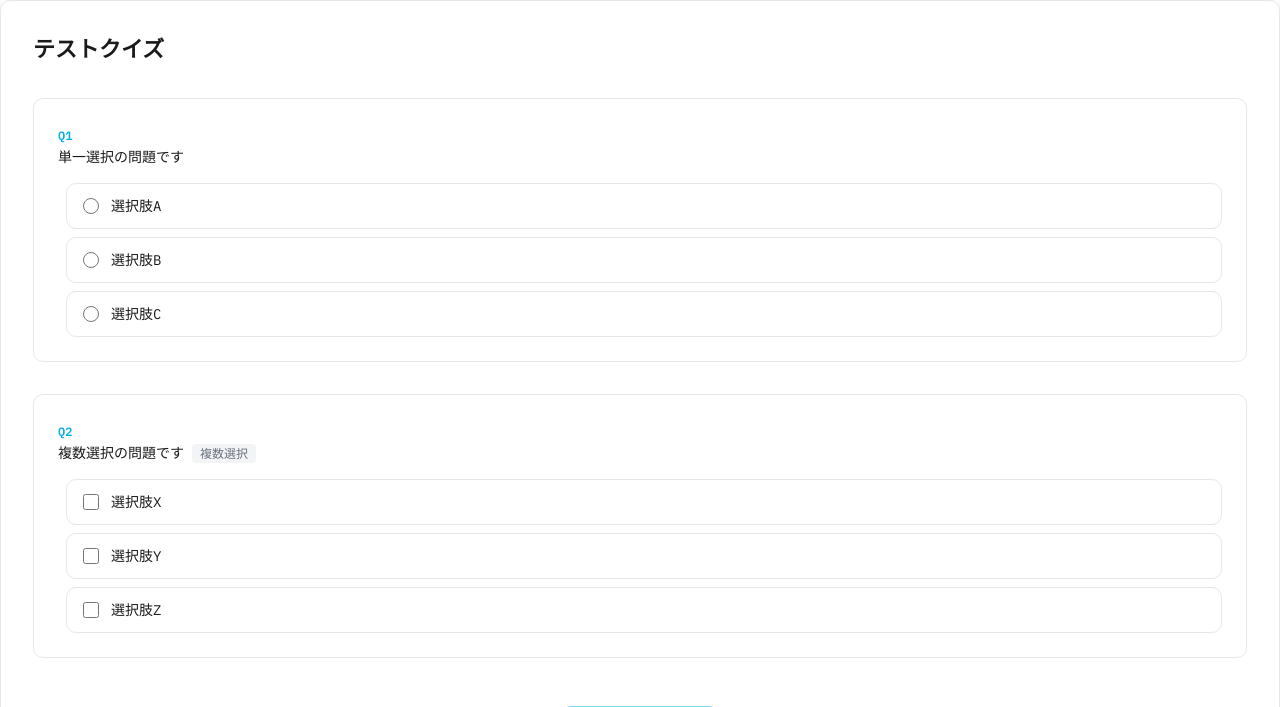
Test case: QuizClient › 結果フェーズ (graded) › 「もう一度挑戦する」クリックで出題画面に戻る
Click the radio button labelled "選択肢B" at (91, 260), box [83,252,99,268]
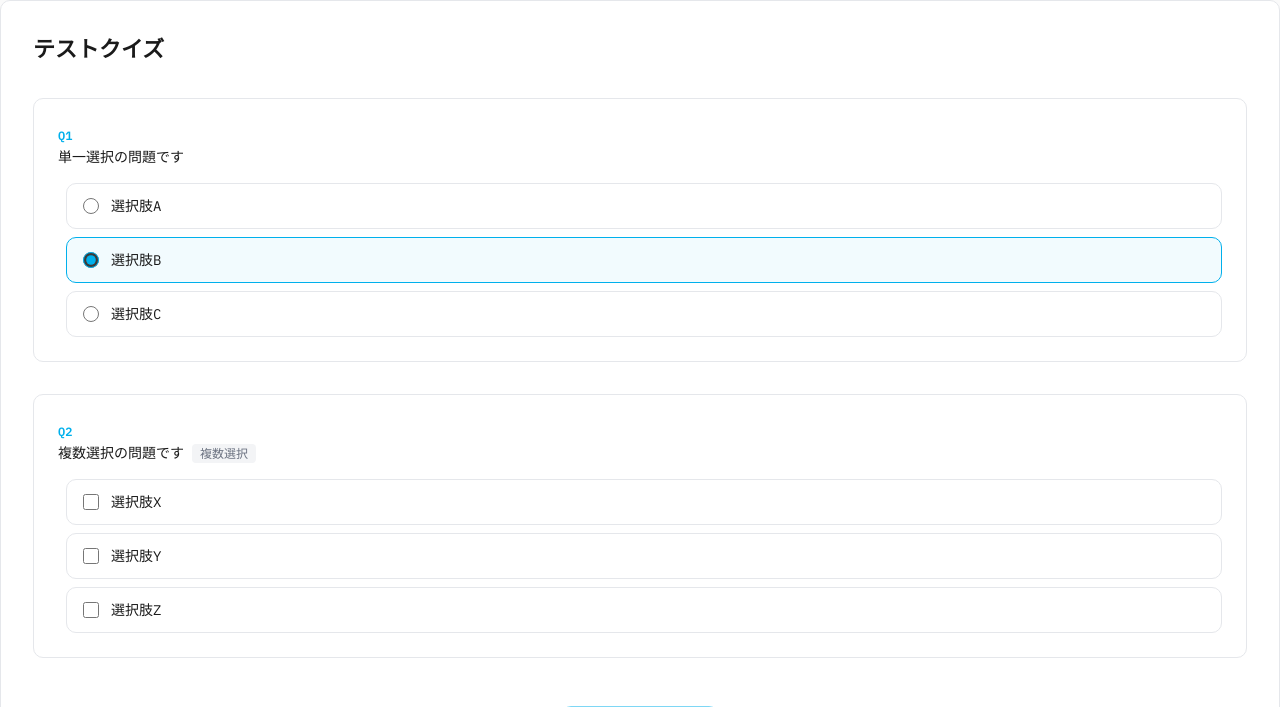
Click the checkbox labelled "選択肢X" at (91, 502), box [83,494,99,510]
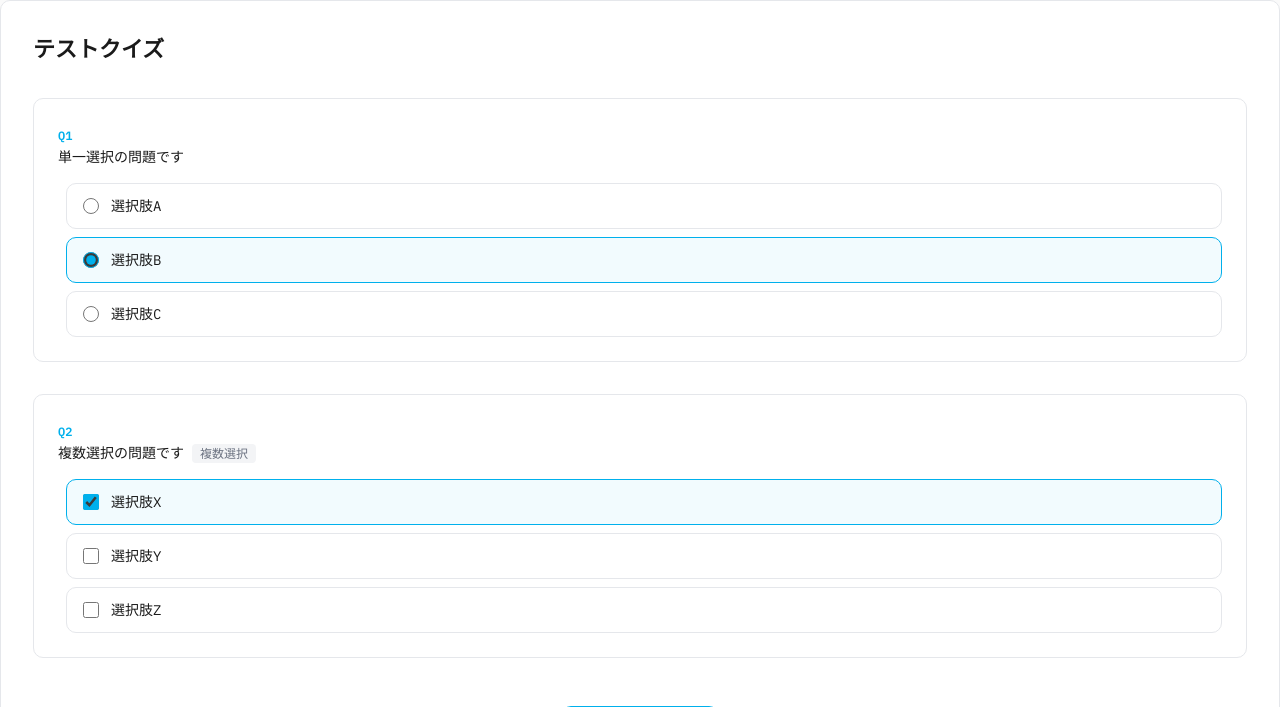
Click the checkbox labelled "選択肢Z" at (91, 610), box [83,602,99,618]
(page scrolled)
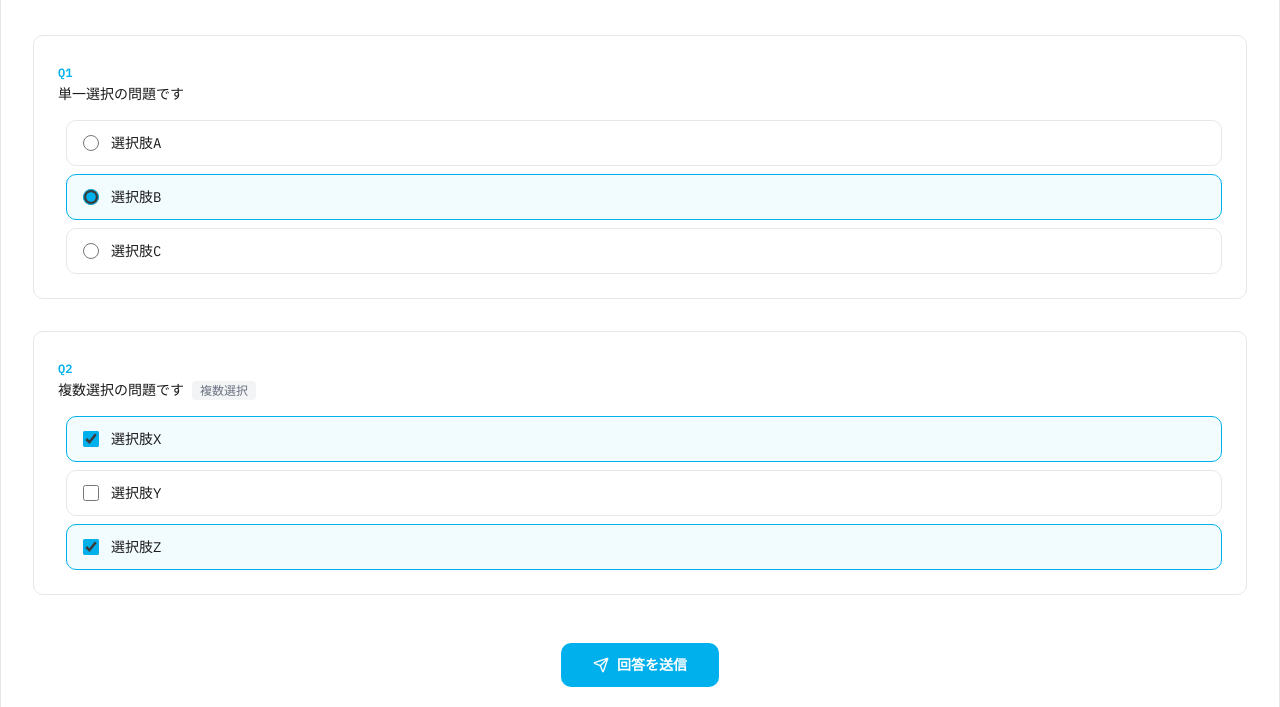
Click the button "回答を送信" at (640, 665), box [561,643,719,687]
(page scrolled)
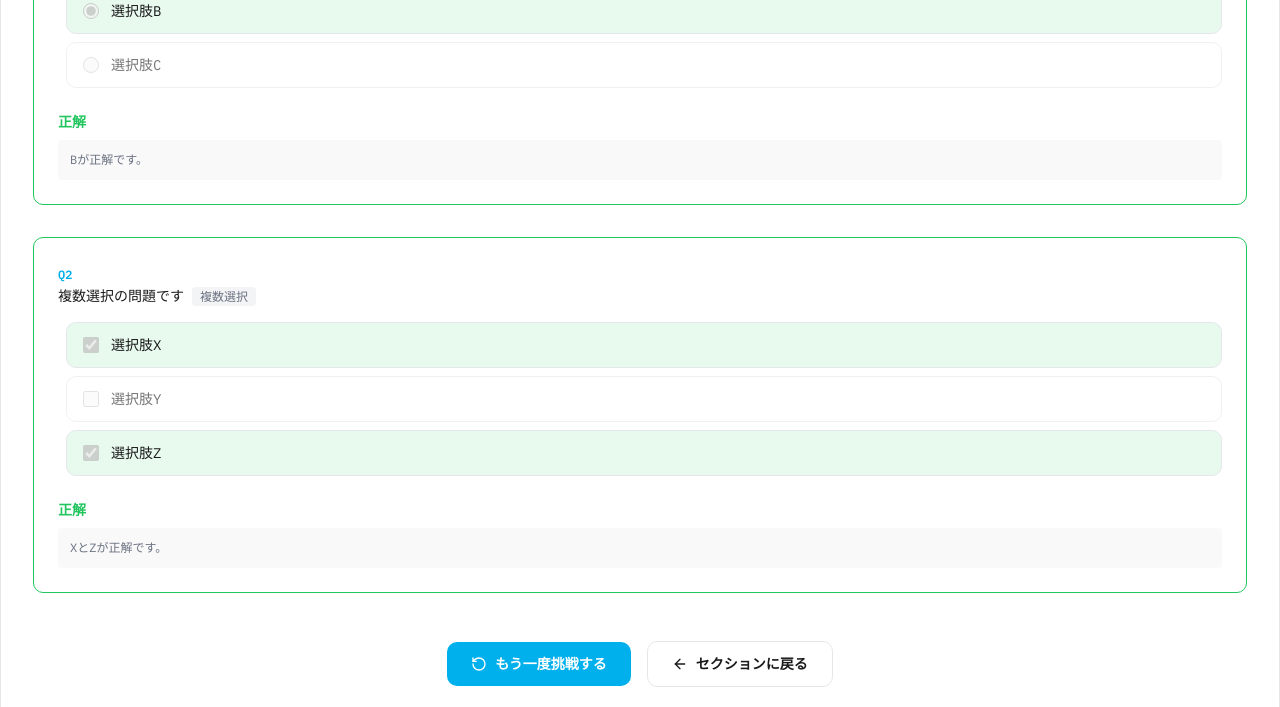
Click the button "もう一度挑戦する" at (539, 664), box [447,642,631,686]
(page scrolled)
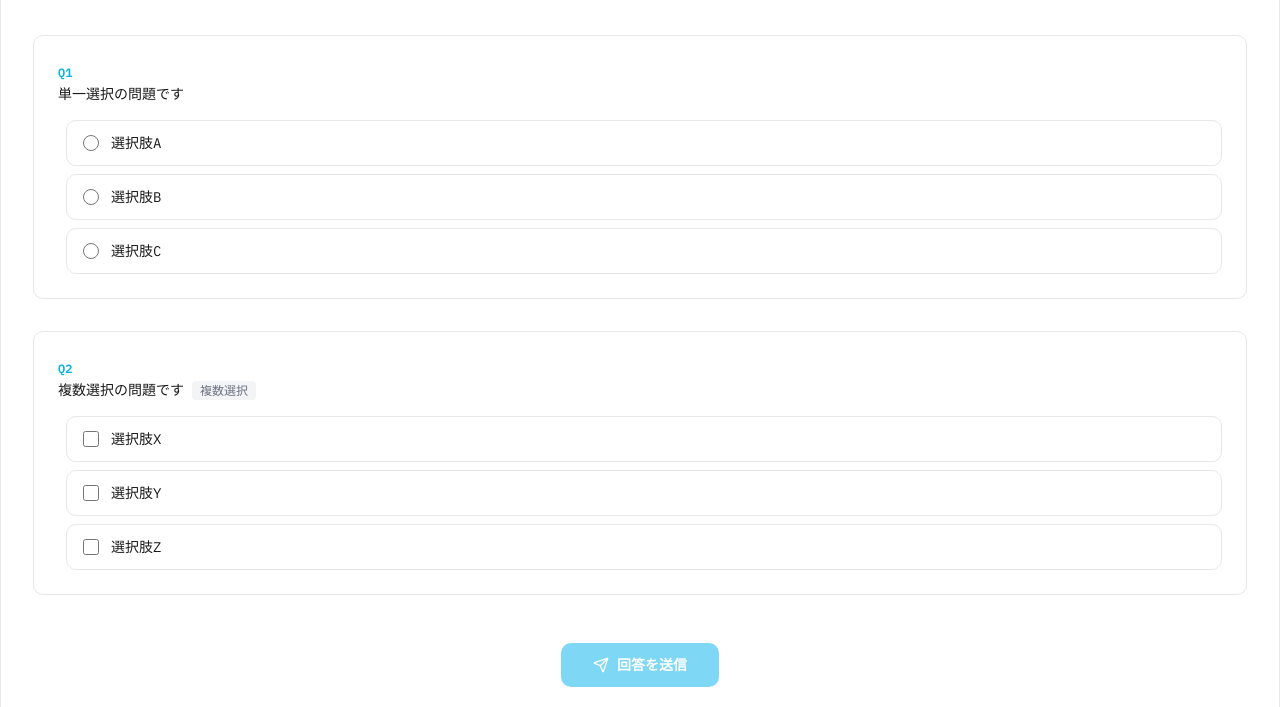
Expected: the button "回答を送信" is shown, [561,643,719,687]
